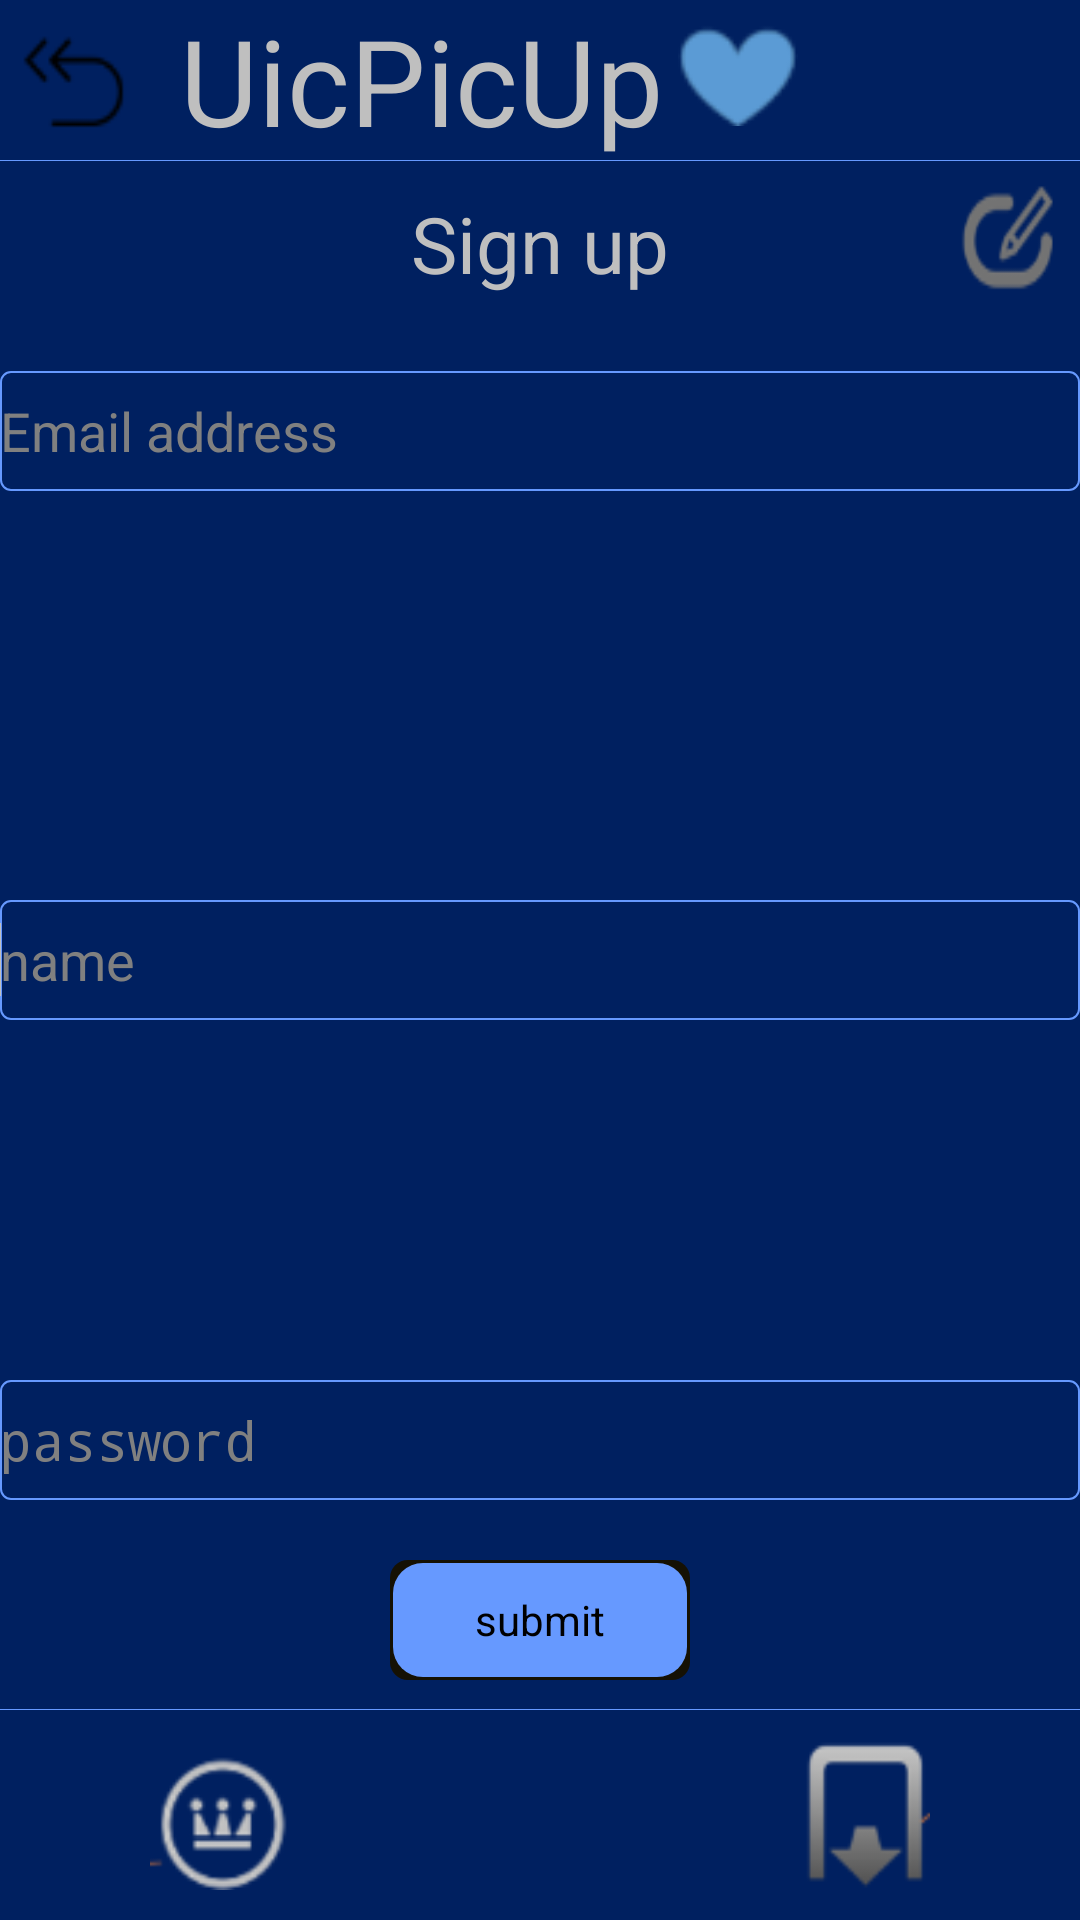

Screen size 1080 × 1920. Icon name, then its box in pixels as (x1, y1, x2, y2):
love: (680, 29, 796, 126)
